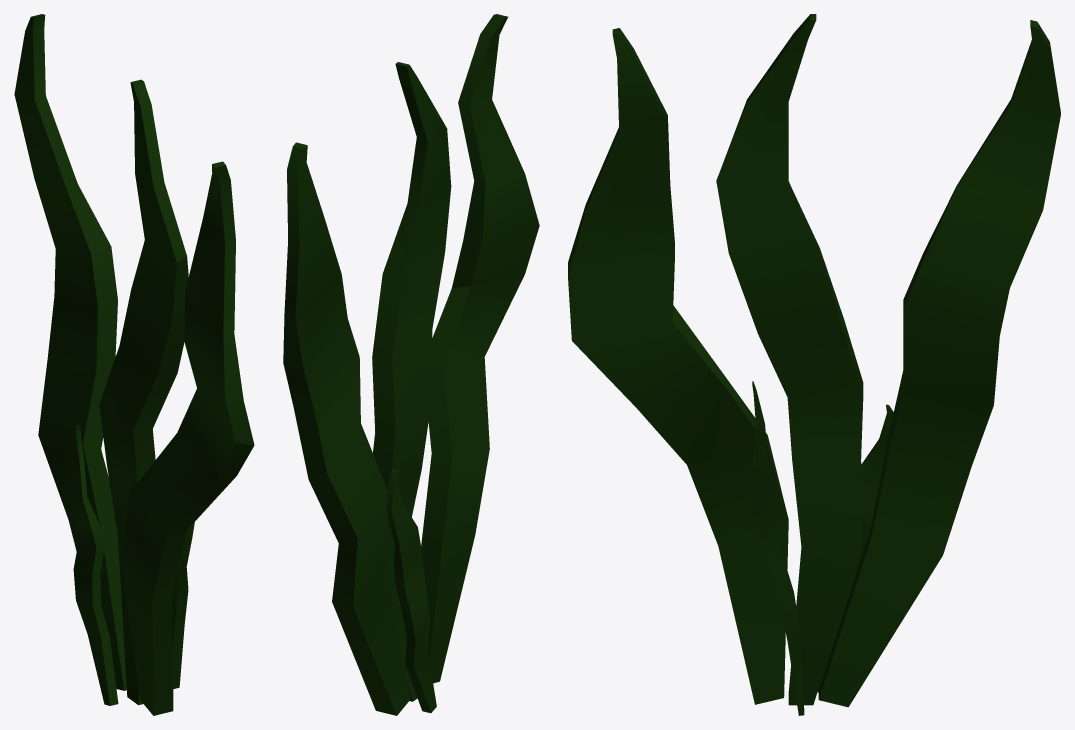
Rendered from seaweed.fbx.
3 views of the same model, side by side, from view 1: azimuth 30°, elevation 25°; view 2: azimuth 150°, elevation 25°; view 3: azimuth 270°, elevation 25° (orthographic). The views are drawn at different scales.
Parts seen in each view (by area): view 1: Seaweed; view 2: Seaweed; view 3: Seaweed.
Part boxes in pixels (x1,y1,x2,y2): Seaweed: (14,14,254,715); Seaweed: (283,14,539,715); Seaweed: (568,14,1060,715).
Size of the model in its own units: 36.19 by 293 by 190.
